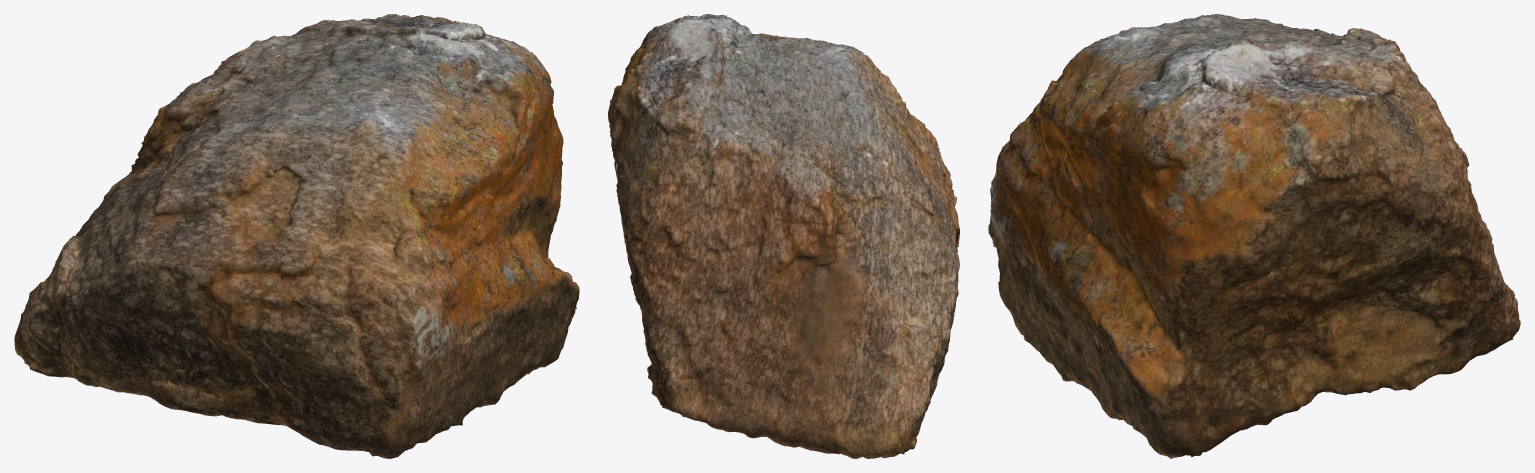
The model's file is namaqualand-boulder-04.glb.
The picture shows the model from 3 angles, left to right: view 1: azimuth 30°, elevation 25°; view 2: azimuth 150°, elevation 25°; view 3: azimuth 270°, elevation 25°; orthographic projection. The views are drawn at different scales.
Visible parts, largest first — view 1: boulder_04; view 2: boulder_04; view 3: boulder_04.
Boxes of the visible parts, <box> form: boulder_04: <box>14,14,579,458</box>; boulder_04: <box>608,14,959,458</box>; boulder_04: <box>988,14,1520,458</box>.
Size of the model in its own units: 2.52 by 1.9 by 2.5.
Materials: 1 (1 with a texture image).
